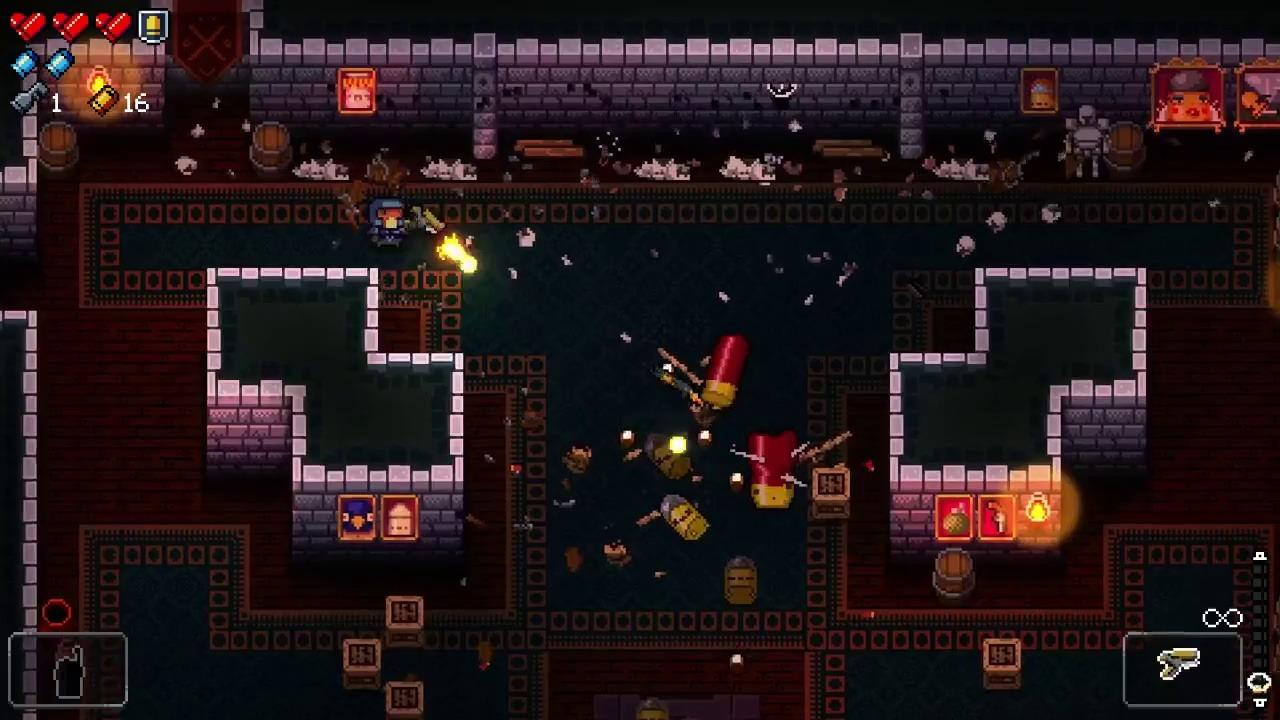dead_bullet_kin: (661, 493, 710, 541), (645, 433, 693, 481), (725, 555, 758, 605)
player: (368, 198, 406, 249)
red_shotgun_kin: (747, 430, 801, 509), (700, 335, 751, 411)
